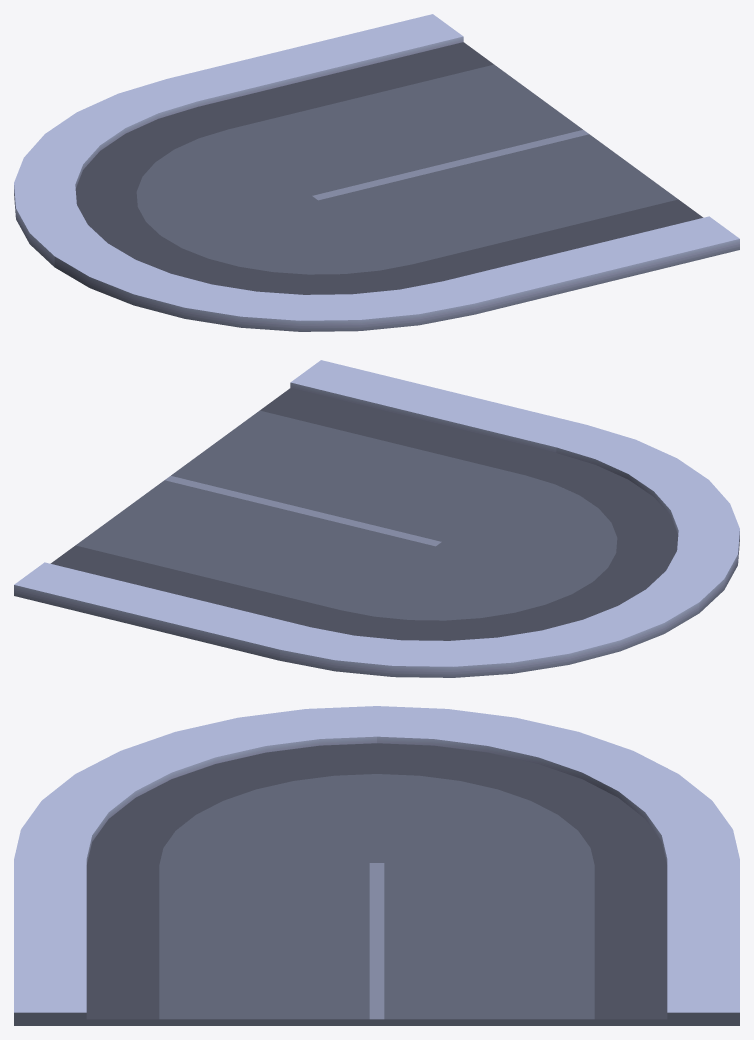
File: road-end-round.glb
3 views of the same model, one above another, from view 1: azimuth 30°, elevation 25°; view 2: azimuth 150°, elevation 25°; view 3: azimuth 270°, elevation 25° (orthographic). The views are drawn at different scales.
Parts seen in each view (by area): view 1: road-end-round; view 2: road-end-round; view 3: road-end-round.
Part boxes in pixels (<box>): road-end-round: <box>14,14,739,331</box>; road-end-round: <box>14,360,739,677</box>; road-end-round: <box>14,706,739,1025</box>.
Bounding box in the file's own units: 1 × 0.02 × 1.
Materials: 1 (1 with a texture image).
